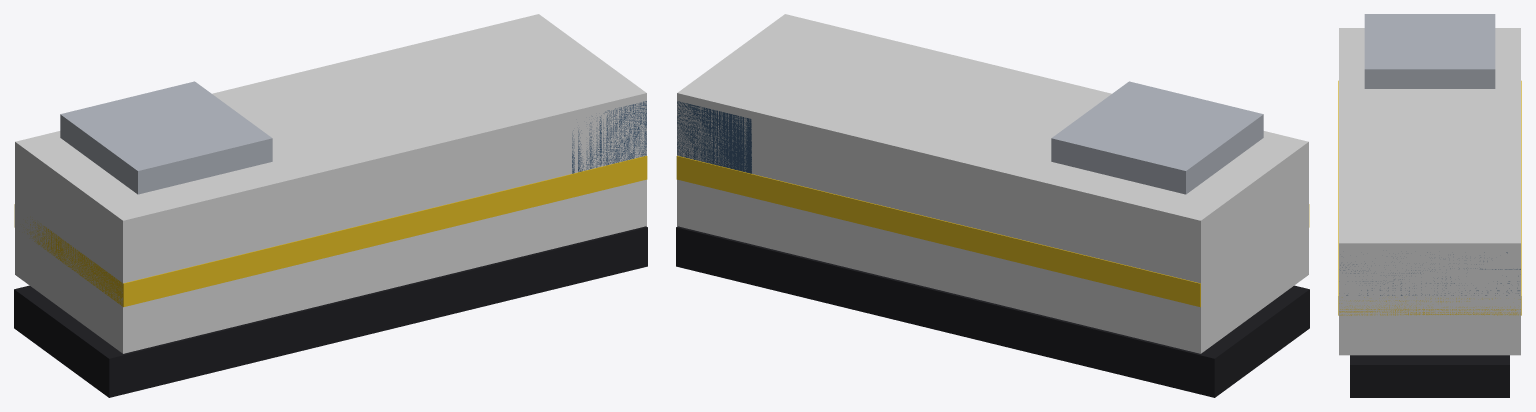
Rendered from loco_diesel_1995.glb.
The picture shows the model from 3 angles, left to right: view 1: azimuth 30°, elevation 25°; view 2: azimuth 150°, elevation 25°; view 3: azimuth 270°, elevation 25°; orthographic projection. The views are drawn at different scales.
Parts seen in each view (by area): view 1: Body, Chassis, Fan, Stripe, Cab; view 2: Body, Chassis, Fan, Stripe, Cab; view 3: Body, Fan, Chassis, Stripe, Cab.
Part boxes in pixels (box(x1,y1,x2,y2)): Body: box(15, 14, 646, 353); Chassis: box(14, 226, 647, 397); Fan: box(60, 81, 272, 194); Stripe: box(14, 155, 647, 307); Cab: box(572, 101, 646, 173); Body: box(677, 14, 1308, 353); Chassis: box(676, 226, 1309, 397); Fan: box(1051, 81, 1263, 194); Stripe: box(676, 155, 1309, 307); Cab: box(677, 101, 751, 173); Body: box(1339, 28, 1520, 355); Fan: box(1364, 14, 1495, 88); Chassis: box(1350, 355, 1509, 397); Stripe: box(1338, 80, 1521, 315); Cab: box(1340, 252, 1520, 295).
Size of the model in its own units: 0.72 by 0.27 by 0.252.
